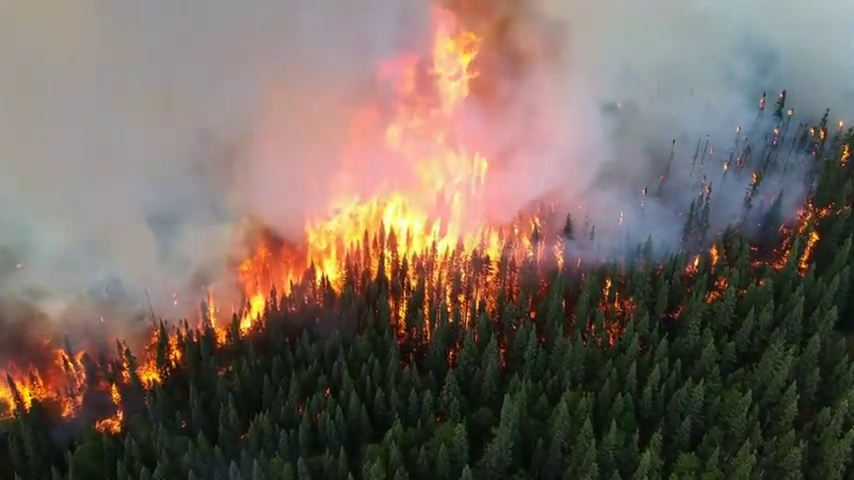forest_fire: (201, 8, 589, 344), (93, 322, 189, 431), (0, 349, 93, 416), (769, 204, 819, 271), (685, 244, 722, 274), (601, 273, 627, 310)
